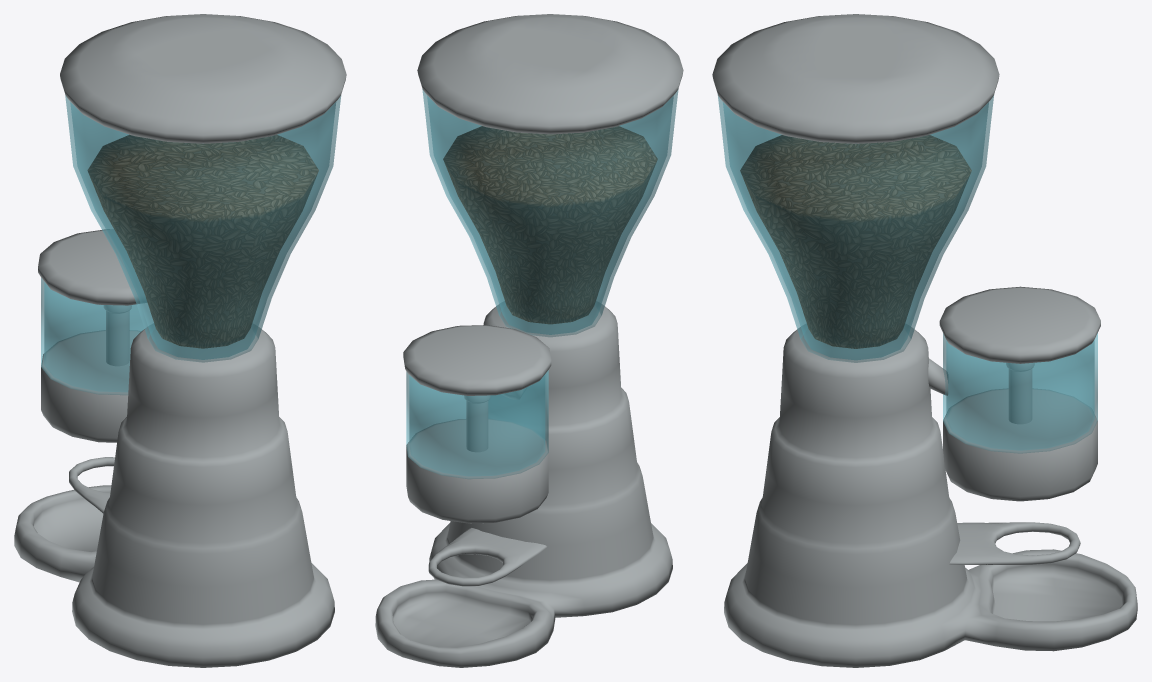
Rendered from CoffGrinder2.fbx.
The picture shows the model from 3 angles, left to right: view 1: azimuth 30°, elevation 25°; view 2: azimuth 150°, elevation 25°; view 3: azimuth 270°, elevation 25°; orthographic projection. The views are drawn at different scales.
Parts seen in each view (by area): view 1: beans.001; view 2: beans.001; view 3: beans.001.
Part boxes in pixels (box(x1,y1,x2,y2)): beans.001: box(14, 14, 346, 667); beans.001: box(375, 14, 683, 667); beans.001: box(712, 14, 1137, 667).
Size of the model in its own units: 42.46 by 91.46 by 62.86.
